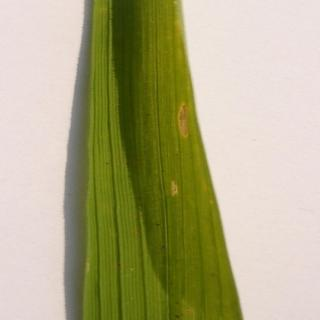Hawar-Daun: (161, 55, 208, 216)
